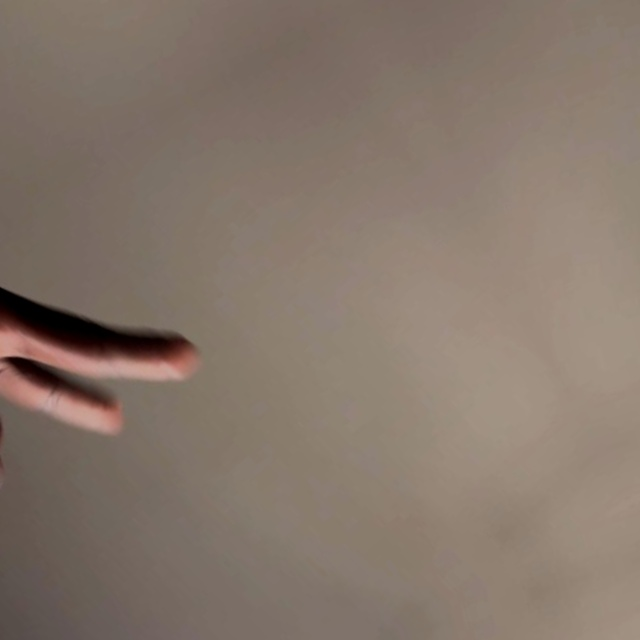Scissors: (0, 0, 93, 328)
